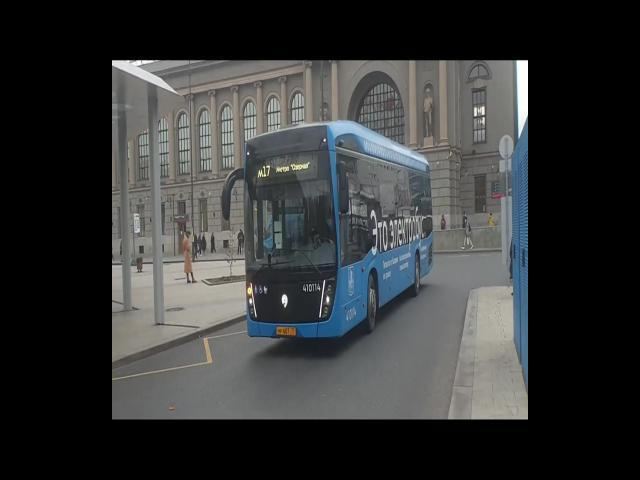bus: (238, 117, 430, 340)
